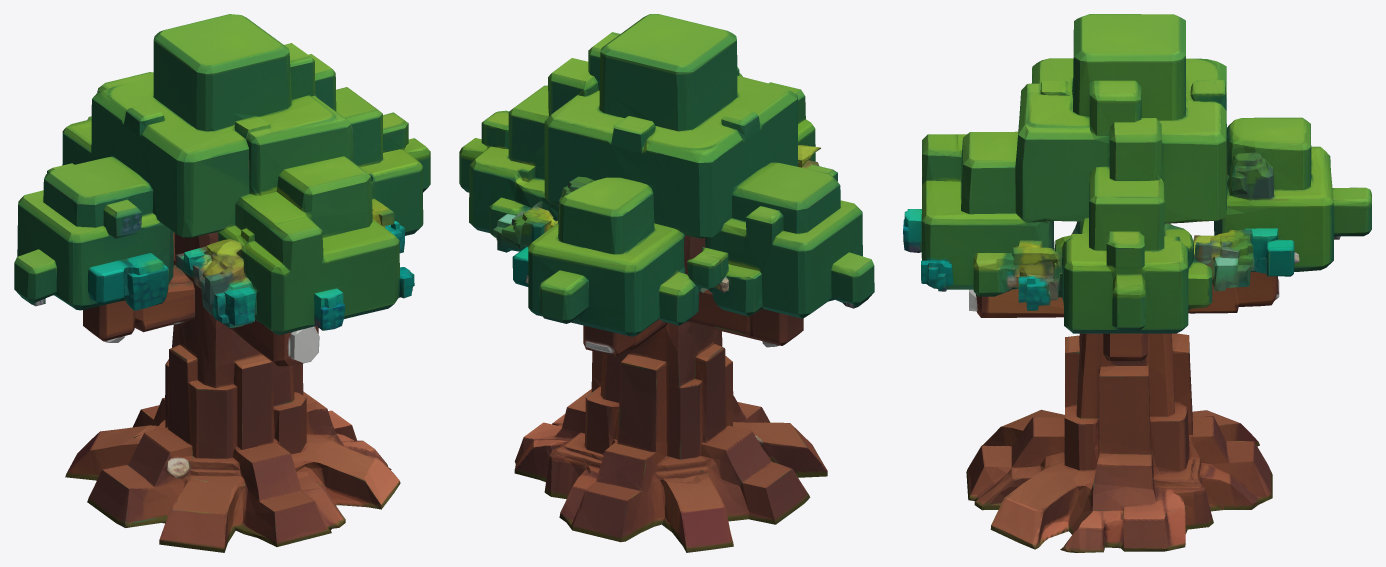
The model's file is canopy-tree.2.glb.
3 renders of one model, left to right at view 1: azimuth 30°, elevation 25°; view 2: azimuth 150°, elevation 25°; view 3: azimuth 270°, elevation 25°, orthographic.
Parts seen in each view (by area): view 1: world; view 2: world; view 3: world.
Part boxes in pixels (x1=…): world: x1=14, y1=14, x2=430, y2=552; world: x1=459, y1=14, x2=874, y2=552; world: x1=903, y1=14, x2=1371, y2=552.
Bounding box in the file's own units: 0.8773 × 0.9241 × 0.869.
1 material, 1 textured.
